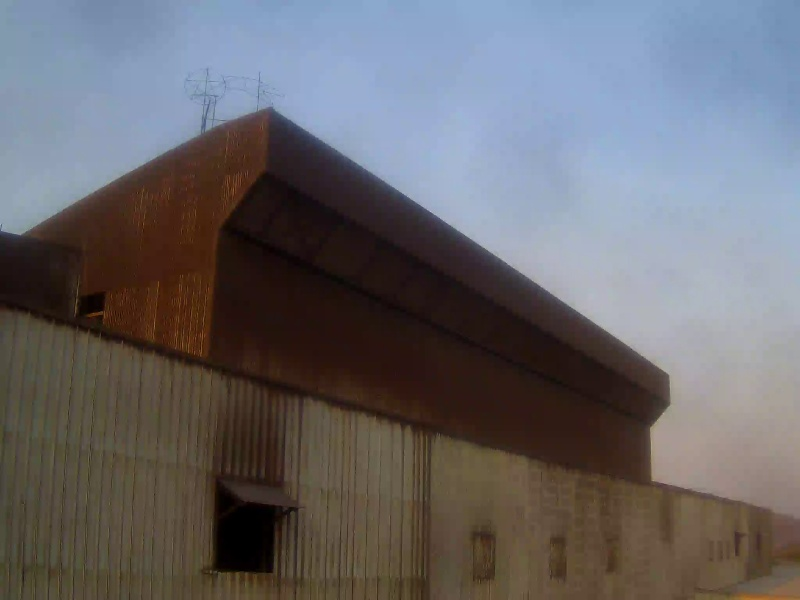bom: (247, 50, 719, 445), (534, 183, 788, 480), (6, 8, 277, 164), (14, 37, 273, 145)
